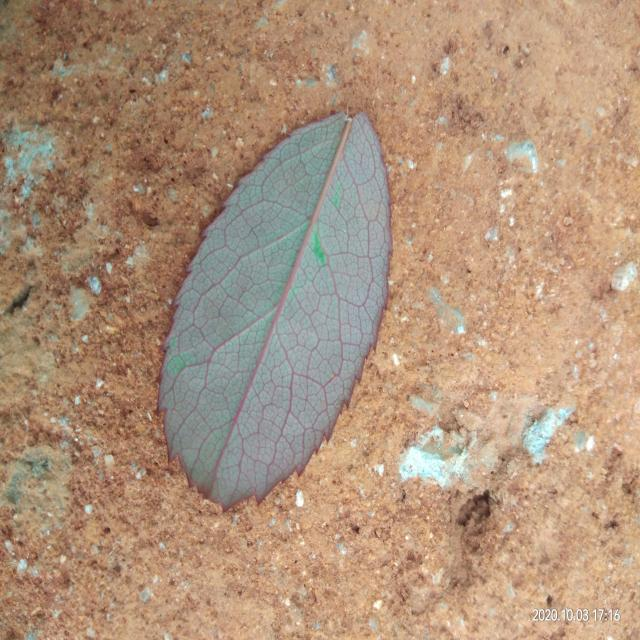rose: (158, 113, 391, 510)
